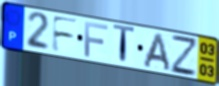2: (26, 11, 52, 50)
A: (141, 31, 172, 73)
F: (51, 15, 80, 55), (83, 21, 109, 59)
T: (112, 23, 136, 67)
Z: (170, 33, 198, 78)
